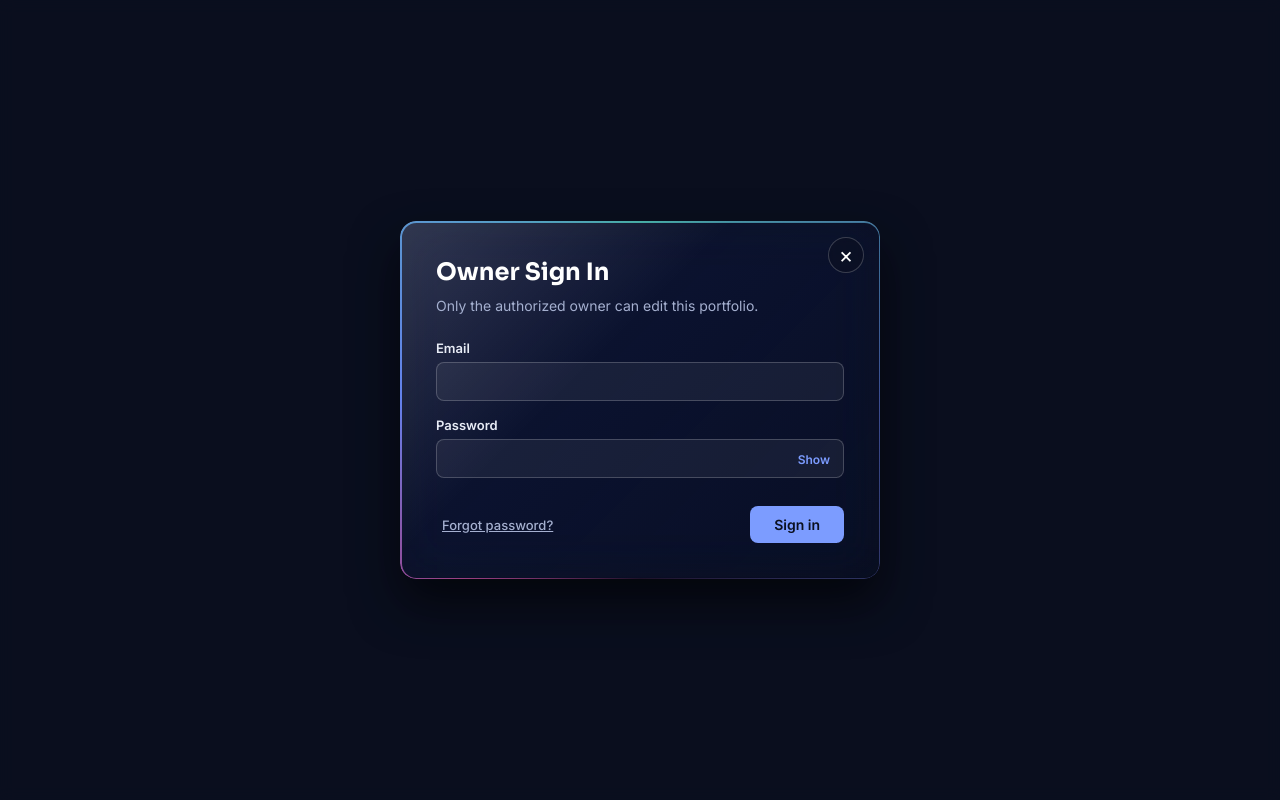
SignInModal › opens the recovery form when Forgot Password is clicked
The image size is (1280, 800).
Click the button "Forgot password?". click: [498, 524]
box: [436,516,559,534]
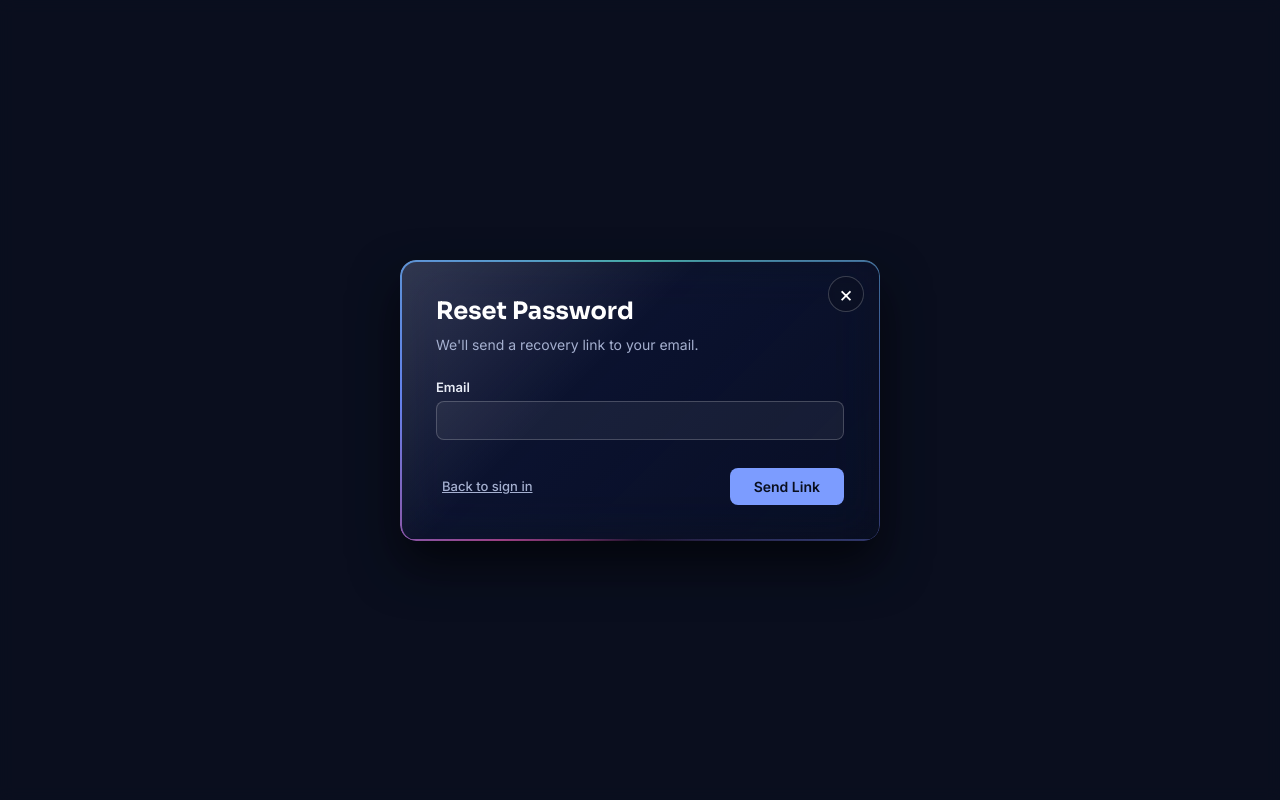
Now the heading "Reset Password" is shown, box [436,296,634,326]
Now the button "Send Link" is shown, box [730,468,844,504]
